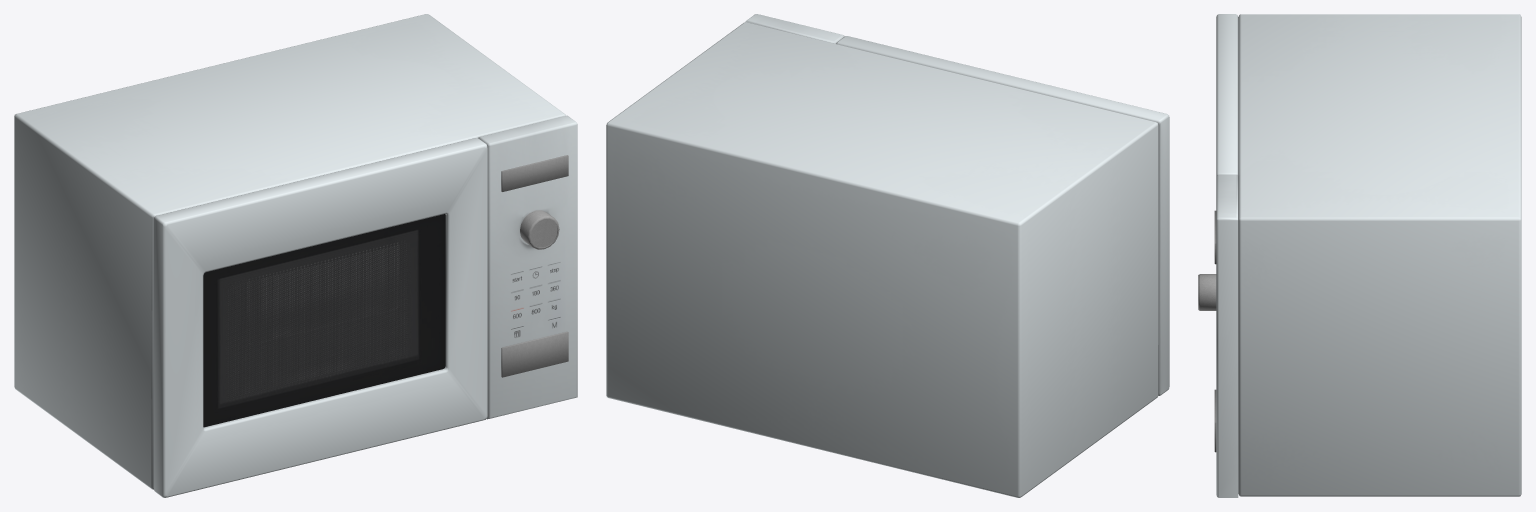
The model's file is microwave.fbx.
The picture shows the model from 3 angles, left to right: view 1: azimuth 30°, elevation 25°; view 2: azimuth 150°, elevation 25°; view 3: azimuth 270°, elevation 25°; orthographic projection.
Visible parts, largest first — view 1: microwave, DOOR; view 2: microwave, DOOR; view 3: microwave, DOOR.
Boxes of the visible parts, x1=… form: microwave: x1=14, y1=14, x2=577, y2=489; DOOR: x1=153, y1=138, x2=487, y2=497; microwave: x1=606, y1=14, x2=1158, y2=497; DOOR: x1=836, y1=36, x2=1169, y2=395; microwave: x1=1198, y1=14, x2=1521, y2=497; DOOR: x1=1216, y1=14, x2=1238, y2=176.
Bounding box in the file's own units: 55.05 × 34.96 × 36.62.
Materials: 1 (1 with a texture image).
